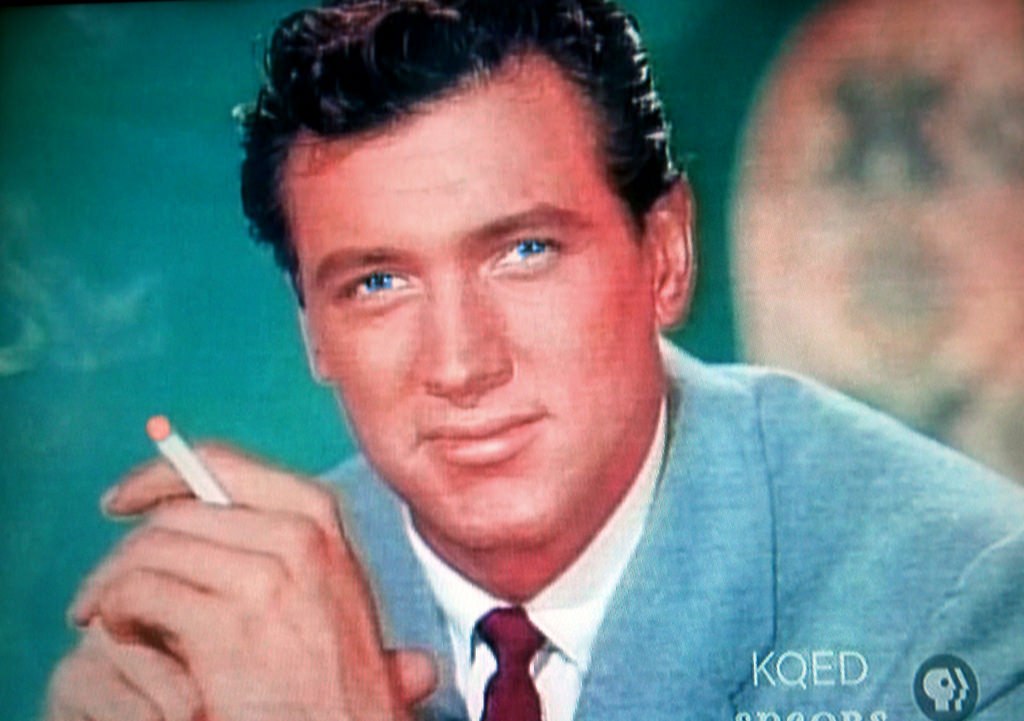cigarette: (129, 404, 238, 518)
